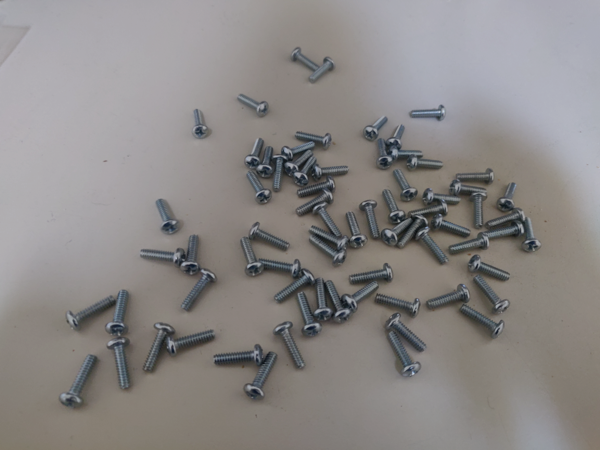shortscrew: (59, 354, 98, 409), (66, 295, 117, 331), (142, 323, 176, 374), (244, 351, 278, 401), (385, 313, 427, 353), (460, 304, 505, 340), (388, 331, 422, 378), (273, 322, 306, 369), (181, 268, 217, 311), (274, 268, 316, 304), (165, 329, 216, 358), (473, 276, 511, 314), (416, 227, 449, 267), (106, 338, 131, 390), (249, 222, 291, 252), (309, 235, 347, 268), (342, 281, 380, 314), (396, 214, 429, 250), (297, 292, 323, 337), (376, 293, 421, 319), (427, 284, 471, 310), (469, 255, 511, 282), (105, 290, 129, 337), (312, 202, 342, 239), (214, 345, 264, 367), (296, 189, 334, 217), (309, 226, 349, 251), (349, 263, 394, 285), (241, 237, 265, 277), (432, 214, 472, 238), (381, 217, 414, 246), (141, 248, 186, 269), (449, 233, 490, 255), (297, 176, 336, 199), (359, 200, 381, 240), (486, 208, 526, 230), (247, 170, 272, 205), (156, 199, 180, 235), (259, 259, 302, 279), (383, 189, 406, 225), (393, 169, 418, 202), (346, 212, 368, 249), (284, 150, 313, 178), (180, 235, 200, 275), (292, 156, 317, 187), (237, 94, 270, 117), (295, 131, 332, 151), (309, 57, 336, 84), (423, 188, 461, 207), (522, 217, 542, 253), (496, 182, 518, 213), (281, 142, 315, 162), (363, 116, 389, 142), (409, 200, 448, 217), (456, 168, 495, 185), (489, 220, 523, 239), (291, 48, 319, 71), (312, 164, 349, 181), (450, 180, 487, 197), (470, 192, 487, 229), (245, 138, 264, 171), (272, 154, 288, 193), (256, 146, 274, 179), (407, 155, 444, 171), (410, 105, 447, 121), (389, 145, 423, 161), (376, 139, 393, 170), (385, 125, 405, 151), (192, 109, 209, 139)
